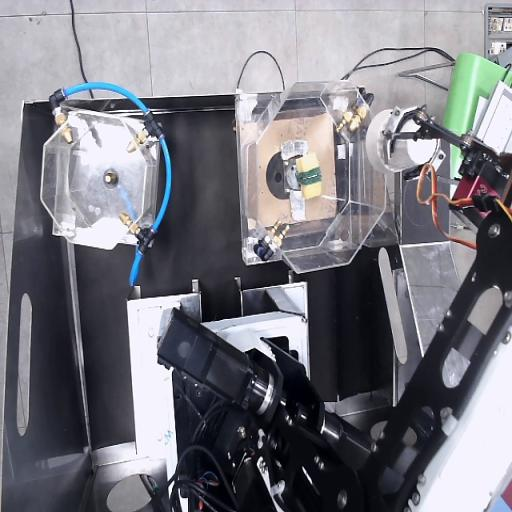cup in wash station: (366, 106, 438, 173)
